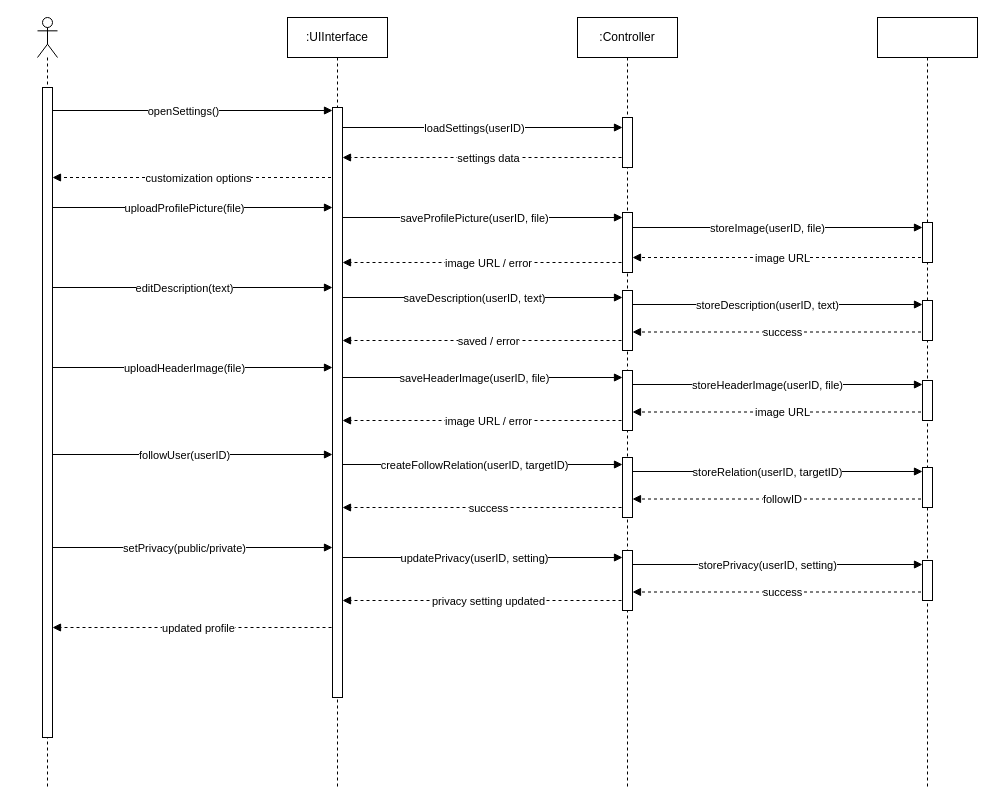
The diagram is 995 pixels wide and 805 high, and some of its shapes have lost their labels. Here are the shapes that lost their labels. From the top down, the box of each, then its label:
(36, 16, 58, 788): User
(876, 16, 978, 788): :Database
